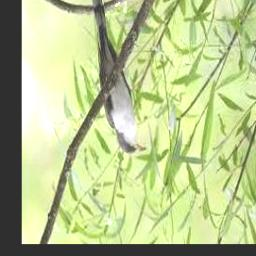Cuckoo: (90, 0, 145, 154)
